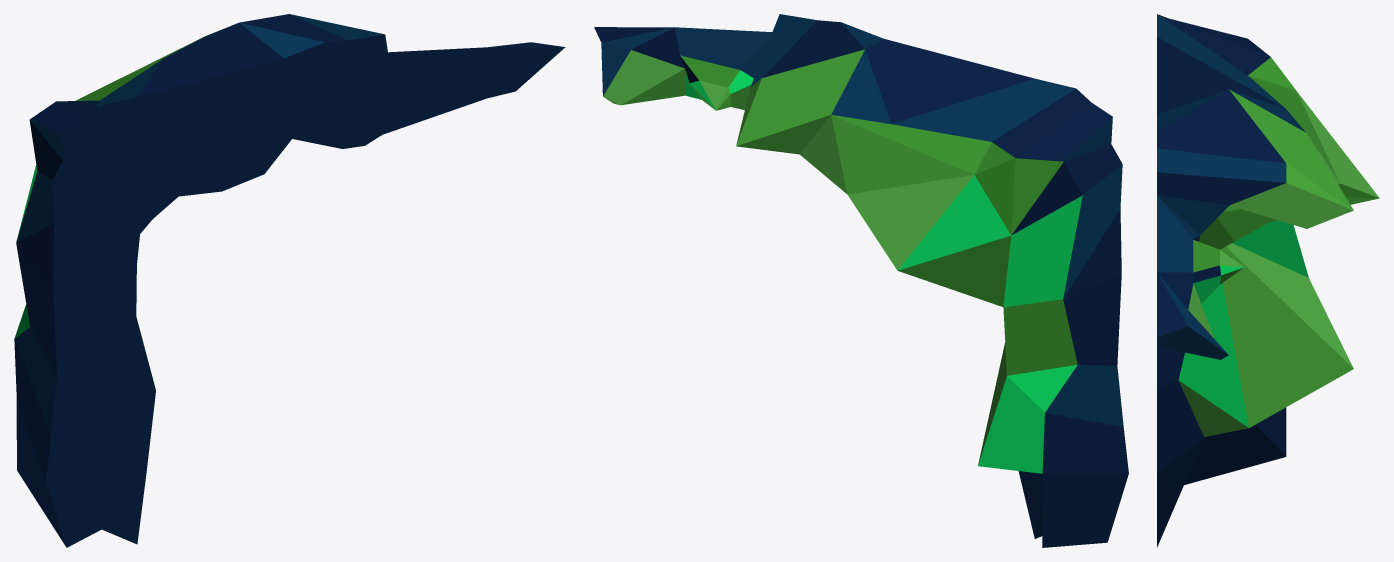
The model's file is dw_middle_mountain_1.fbx.
3 views of the same model, side by side, from view 1: azimuth 30°, elevation 25°; view 2: azimuth 150°, elevation 25°; view 3: azimuth 270°, elevation 25° (orthographic). The views are drawn at different scales.
Parts seen in each view (by area): view 1: desert_middle_mountain_3.001; view 2: desert_middle_mountain_3.001; view 3: desert_middle_mountain_3.001.
Part boxes in pixels (x1,y1,x2,y2): desert_middle_mountain_3.001: (14,14,565,547); desert_middle_mountain_3.001: (594,14,1128,547); desert_middle_mountain_3.001: (1157,14,1379,547).
Bounding box in the file's own units: 1058 × 907 × 344.
